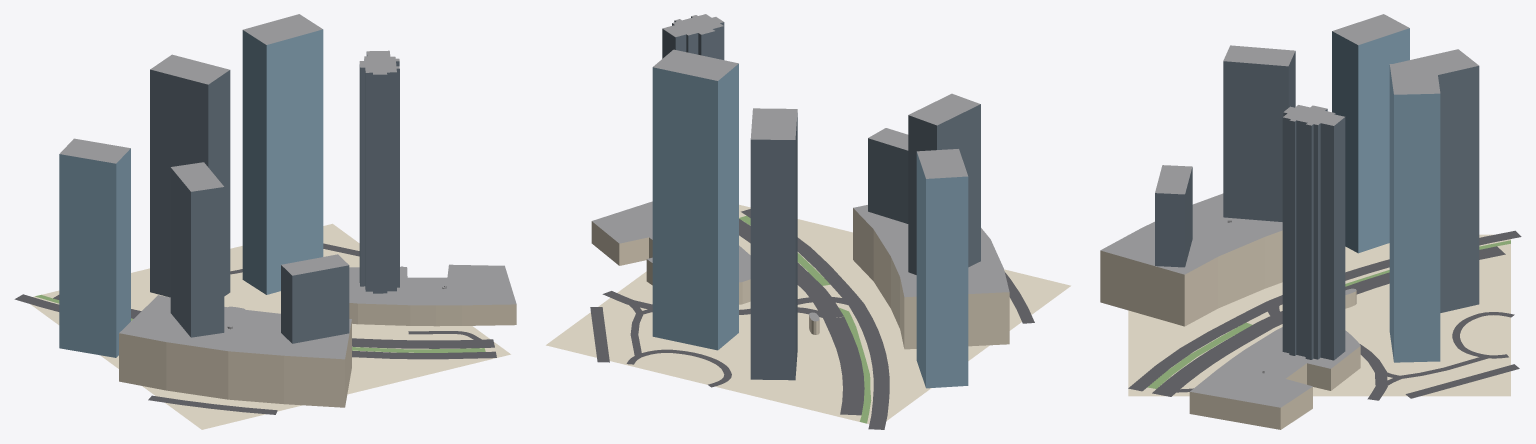
Rendered from tile_-3_3_far.glb.
The picture shows the model from 3 angles, left to right: view 1: azimuth 30°, elevation 25°; view 2: azimuth 150°, elevation 25°; view 3: azimuth 270°, elevation 25°; orthographic projection. The views are drawn at different scales.
Parts seen in each view (by area): view 1: buildings_glass_blue, buildings_glass_dark, buildings_roof, buildings_sandstone, nature_ground, roads_asphalt, nature_grass; view 2: buildings_glass_blue, nature_ground, buildings_glass_dark, buildings_roof, roads_asphalt, buildings_sandstone, nature_grass; view 3: buildings_glass_dark, buildings_glass_blue, nature_ground, buildings_roof, buildings_sandstone, roads_asphalt, nature_grass.
Boxes of the visible parts, x1,y1,x2,y2 form: buildings_glass_blue: (59,29,323,357); buildings_glass_dark: (150,52,399,343); buildings_roof: (60,14,516,359); buildings_sandstone: (119,303,516,407); nature_ground: (30,223,510,429); roads_asphalt: (14,243,496,414); nature_grass: (35,295,485,352); buildings_glass_blue: (652,64,968,388); nature_ground: (546,204,1070,423); buildings_glass_dark: (662,16,980,380); buildings_roof: (592,14,1009,321); roads_asphalt: (590,209,1034,429); buildings_sandstone: (591,208,1009,349); nature_grass: (739,215,871,423); buildings_glass_dark: (1155,51,1479,360); buildings_glass_blue: (1332,28,1440,362); nature_ground: (1128,234,1510,396); buildings_roof: (1100,14,1478,407); buildings_sandstone: (1100,230,1360,429); roads_asphalt: (1128,230,1521,400); nature_grass: (1147,240,1510,388).
Bounding box in the file's own units: 321 × 193 × 275.
